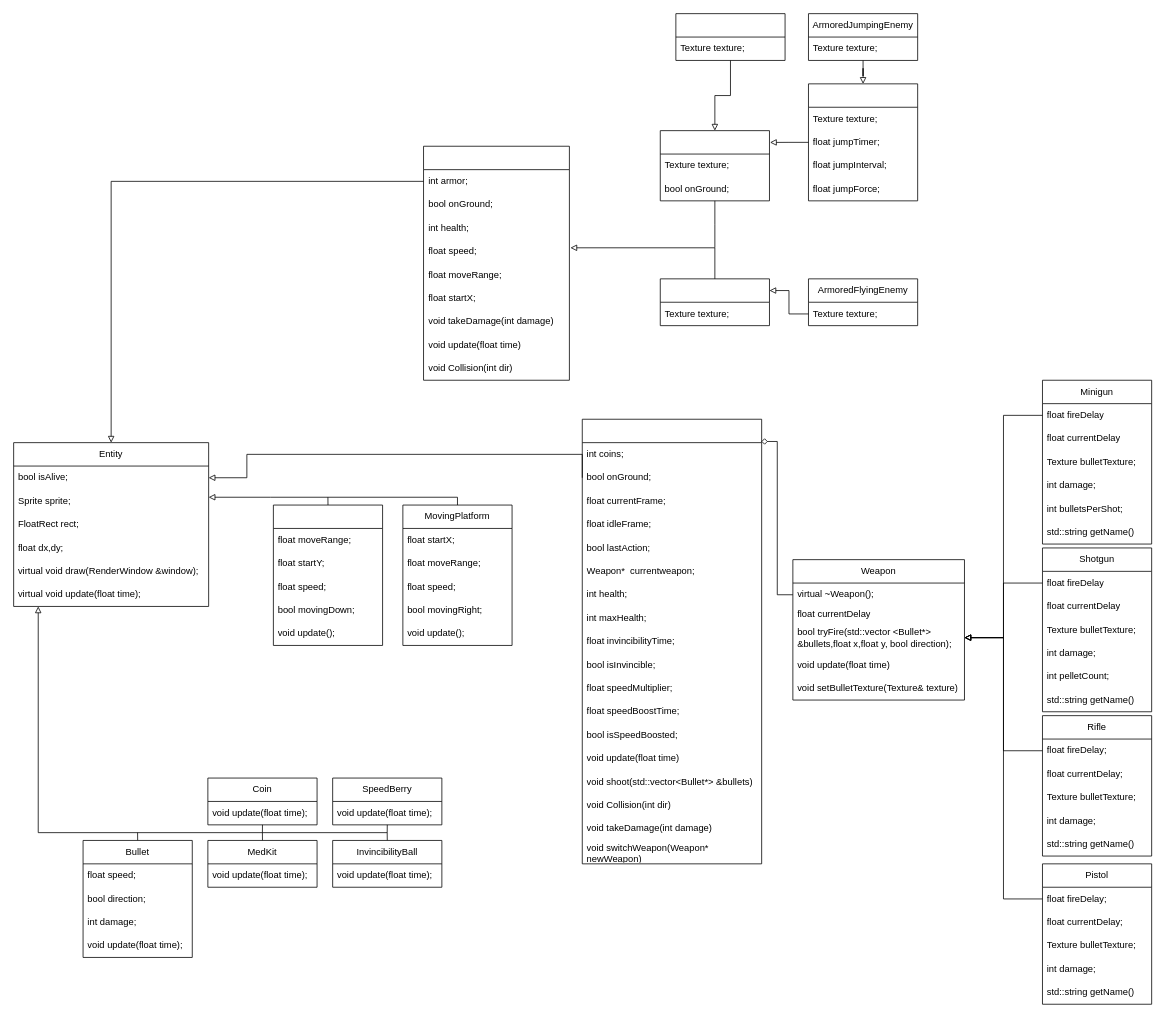
Some shapes in this 1165 by 1018 pixel diagram are drawn without their labels. The shapes that lost their labels are listed below. From the top down, each one's box as (x1, y1, x2, y2) in pixels, then its label:
(675, 13, 785, 60): ArmoredWalkingEnemy
(808, 83, 918, 201): JumpingEnemy
(659, 130, 769, 201): WalkingEnemy
(423, 145, 569, 380): Enemy
(659, 278, 769, 326): FlyingEnemy
(273, 504, 383, 645): VerticalMovingPlatform
(581, 418, 762, 864): Player
